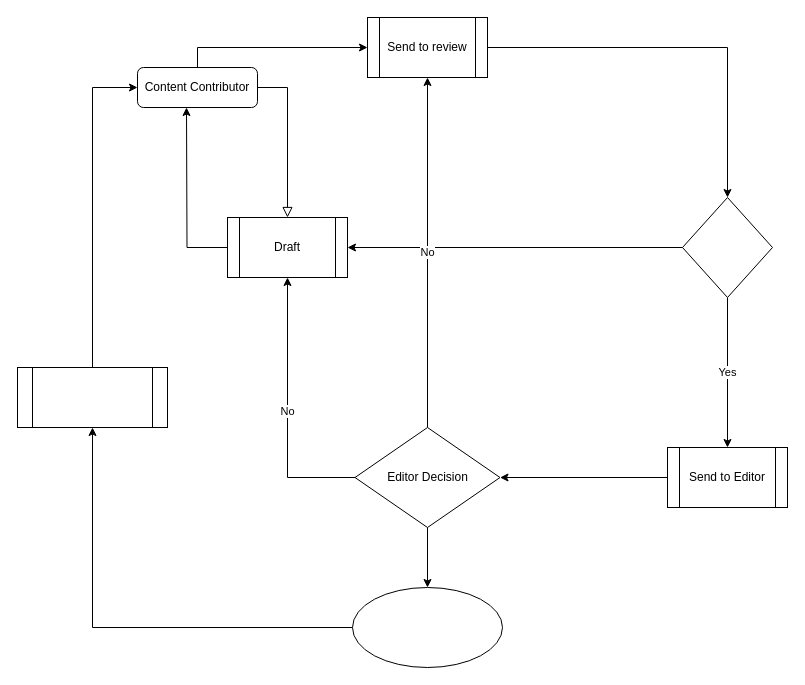
The diagram is 805 pixels wide and 685 high, and some of its shapes have lost their labels. The box of each missing label's shape, as (x1, y1, x2, y2) in pixels:
Content Reviewer Decision: (682, 196, 772, 298)
Create New Draft: (16, 366, 168, 428)
Published: (352, 586, 502, 668)
